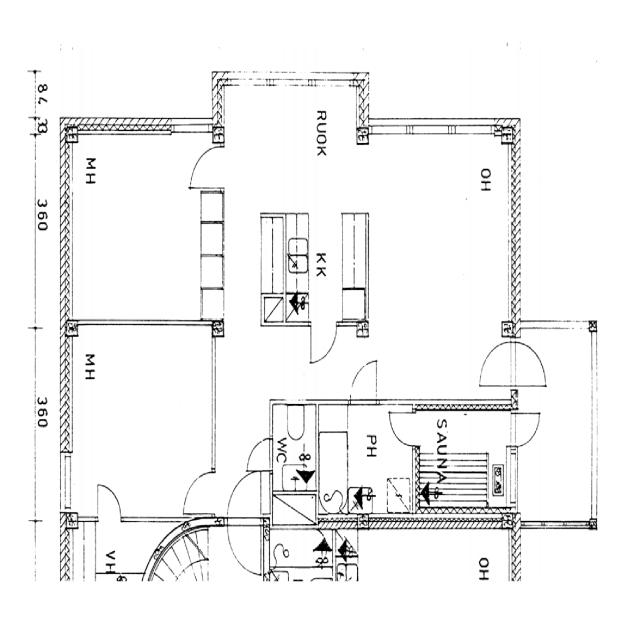door: (511, 375, 586, 482), (225, 466, 265, 576), (185, 140, 225, 194), (476, 338, 514, 389), (346, 356, 383, 408), (180, 466, 217, 517), (513, 338, 549, 389), (92, 479, 126, 527), (306, 320, 339, 368), (386, 404, 418, 449), (510, 408, 542, 448), (244, 435, 274, 474)
window: (167, 114, 214, 146), (57, 448, 75, 514), (504, 446, 520, 511)
zone: (361, 136, 516, 398), (64, 135, 224, 326), (68, 322, 214, 524), (222, 86, 365, 222), (514, 322, 596, 528), (317, 402, 414, 522), (272, 402, 318, 496), (270, 528, 334, 581)
